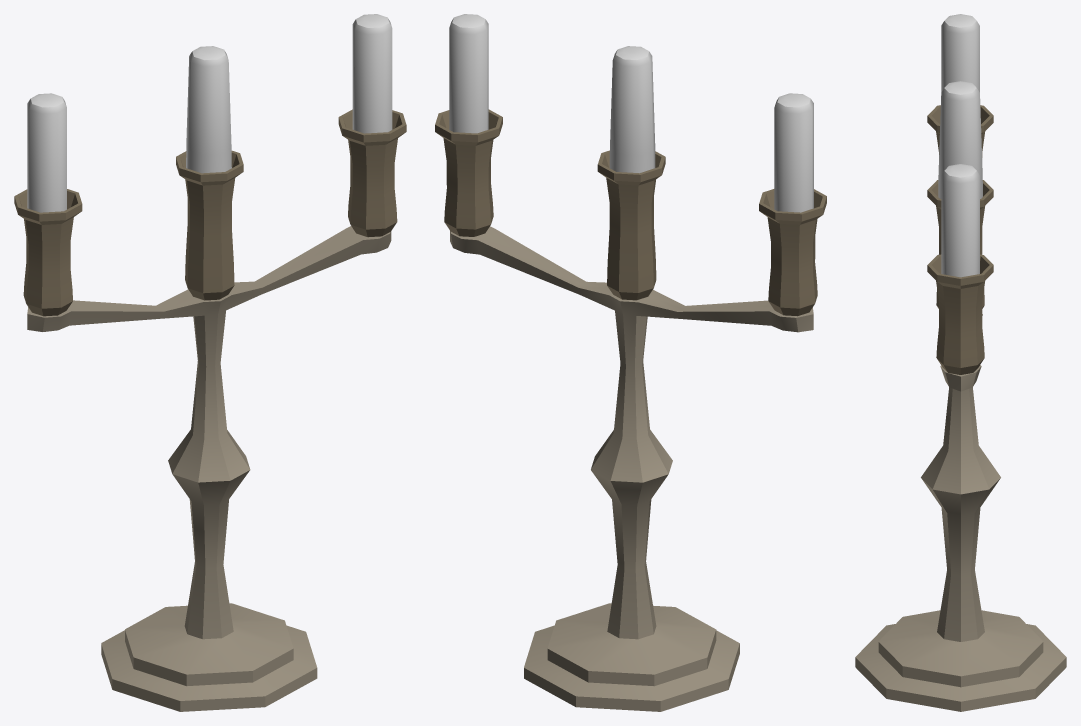
File: candlestick.fbx
3 renders of one model, left to right at view 1: azimuth 30°, elevation 25°; view 2: azimuth 150°, elevation 25°; view 3: azimuth 270°, elevation 25°, orthographic. The views are drawn at different scales.
Parts seen in each view (by area): view 1: Cylinder001, Line008, Line005, Line004, Line006; view 2: Cylinder001, Line008, Line005, Line004, Line006; view 3: Cylinder001, Line008, Line004, Line005, Line006.
Part boxes in pixels (bbox=[...]): Cylinder001: bbox=[27, 226, 391, 711]; Line008: bbox=[27, 14, 392, 212]; Line005: bbox=[176, 150, 243, 300]; Line004: bbox=[338, 109, 406, 237]; Line006: bbox=[14, 189, 82, 316]; Cylinder001: bbox=[450, 226, 813, 711]; Line008: bbox=[449, 14, 813, 212]; Line005: bbox=[597, 150, 665, 300]; Line004: bbox=[435, 109, 502, 236]; Line006: bbox=[759, 189, 826, 316]; Cylinder001: bbox=[855, 314, 1066, 711]; Line008: bbox=[938, 14, 982, 277]; Line004: bbox=[927, 254, 993, 374]; Line005: bbox=[927, 180, 993, 308]; Line006: bbox=[927, 105, 993, 157].
Bounding box in the file's own units: 122 × 61.23 × 186.
